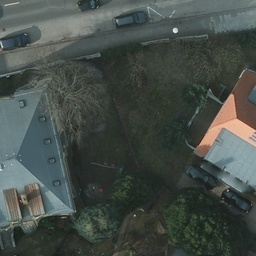car: (184, 164, 217, 190), (222, 188, 252, 213), (114, 11, 147, 26), (1, 34, 30, 49), (75, 1, 104, 12)
